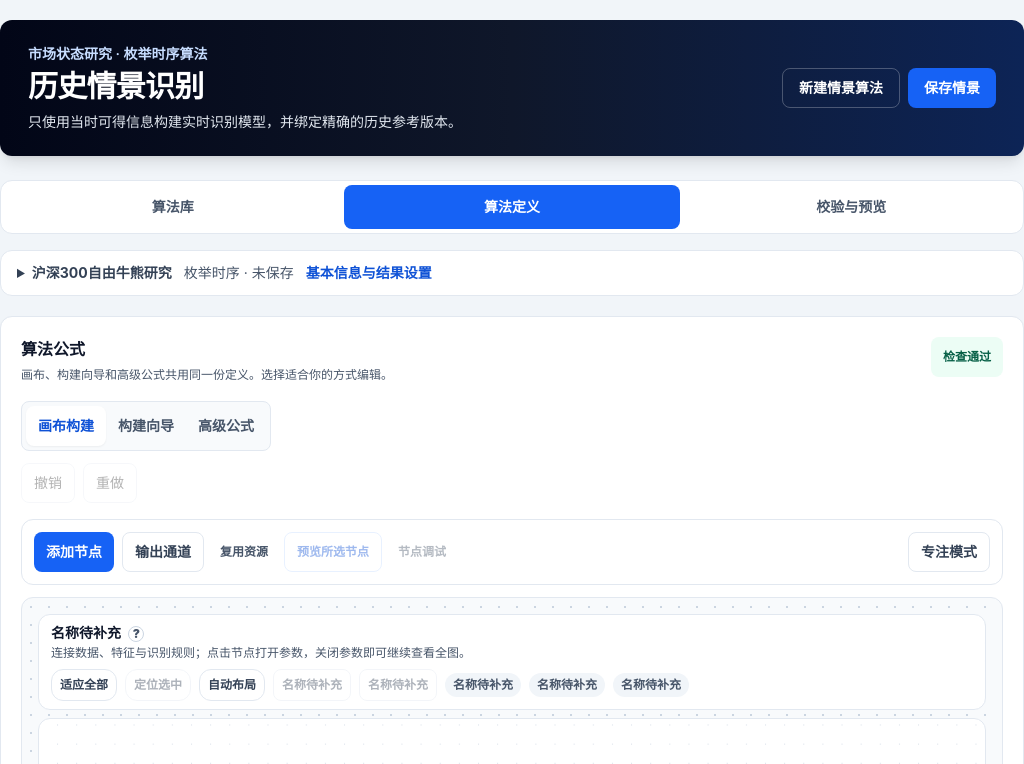
HistoricalRegimeWorkbench › 历史识别拒绝高级公式中的人工事件，保留未应用草稿
The width and height of the screenshot is (1024, 764).
Click the tab "高级公式": click(226, 426) [186,406,266,446]
(page scrolled)
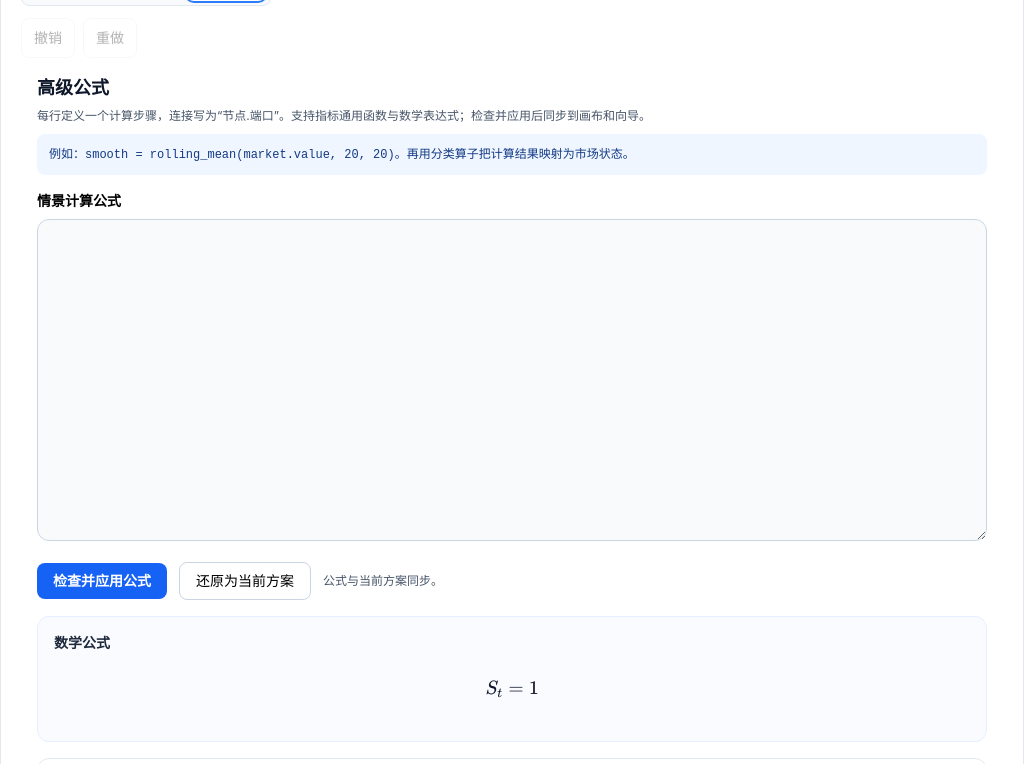
Expected: the text box labelled "情景计算公式" is enabled
In the text box labelled "情景计算公式": (512, 380) [37,219,987,541], type "manual = annotation_manual_events()"
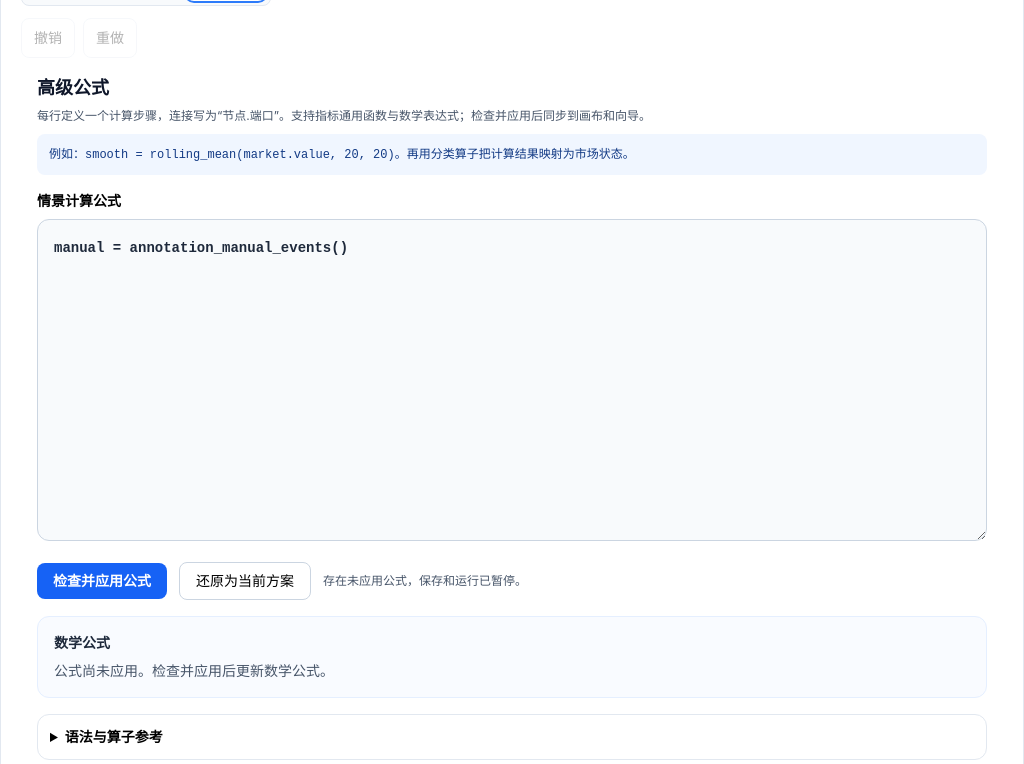
Click the button "检查并应用公式": click(102, 581) [37,563,167,599]
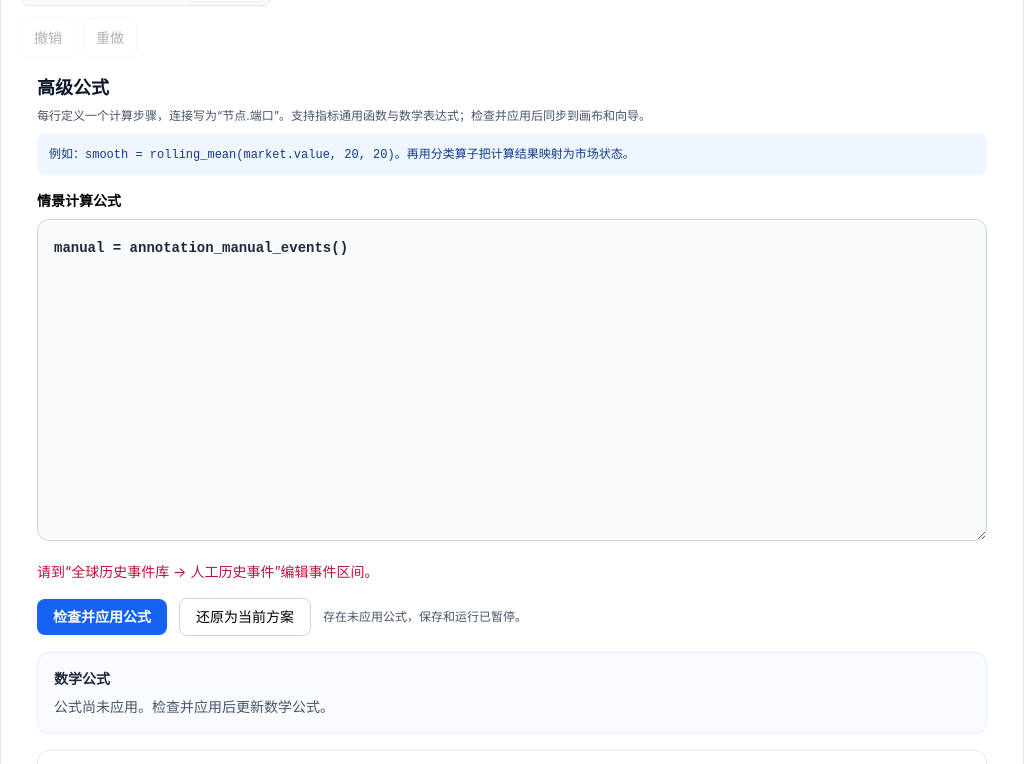
Expected: the text "存在未应用公式，保存和运行已暂停。" is shown, [323,609,527,625]
Expected: the text "请到“全球历史事件库 → 人工历史事件”编辑事件区间。" is shown, [37,563,379,580]
